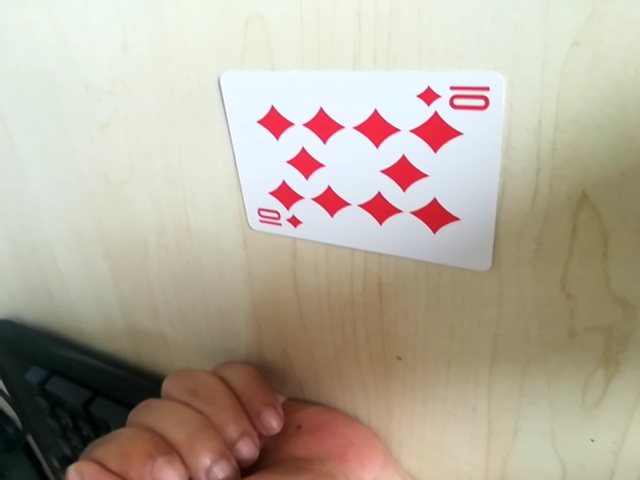fk 10: (414, 79, 499, 115), (250, 204, 304, 237)
